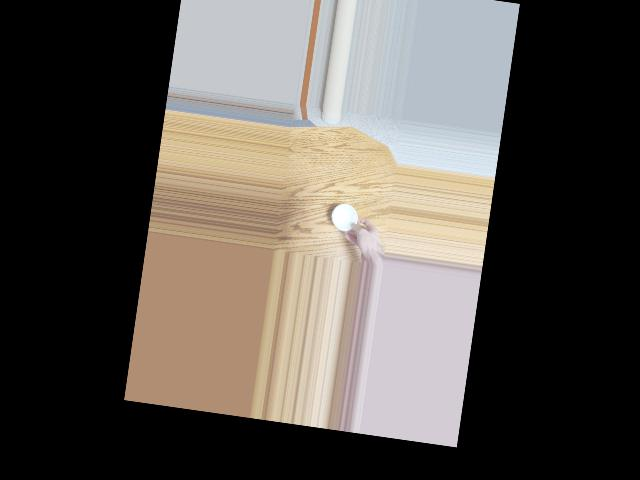cotage: (329, 202, 360, 234)
